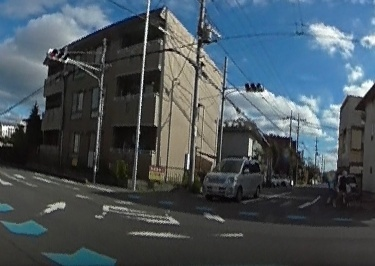person: (337, 168, 348, 203)
